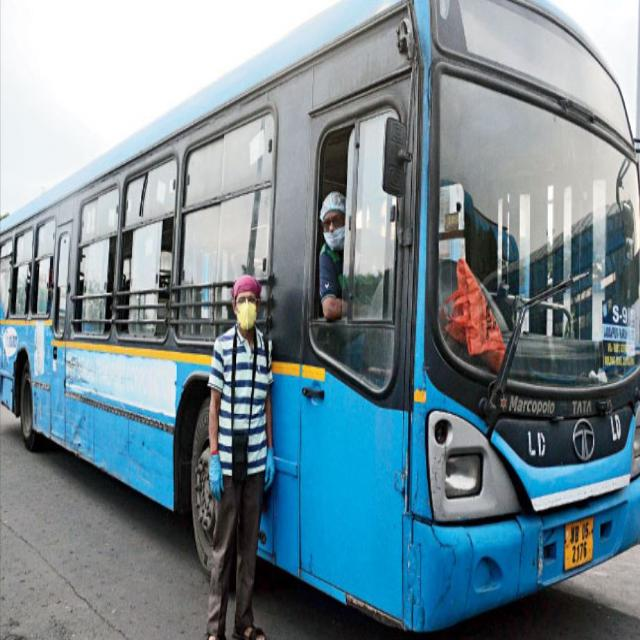BUS: (5, 0, 640, 619)
